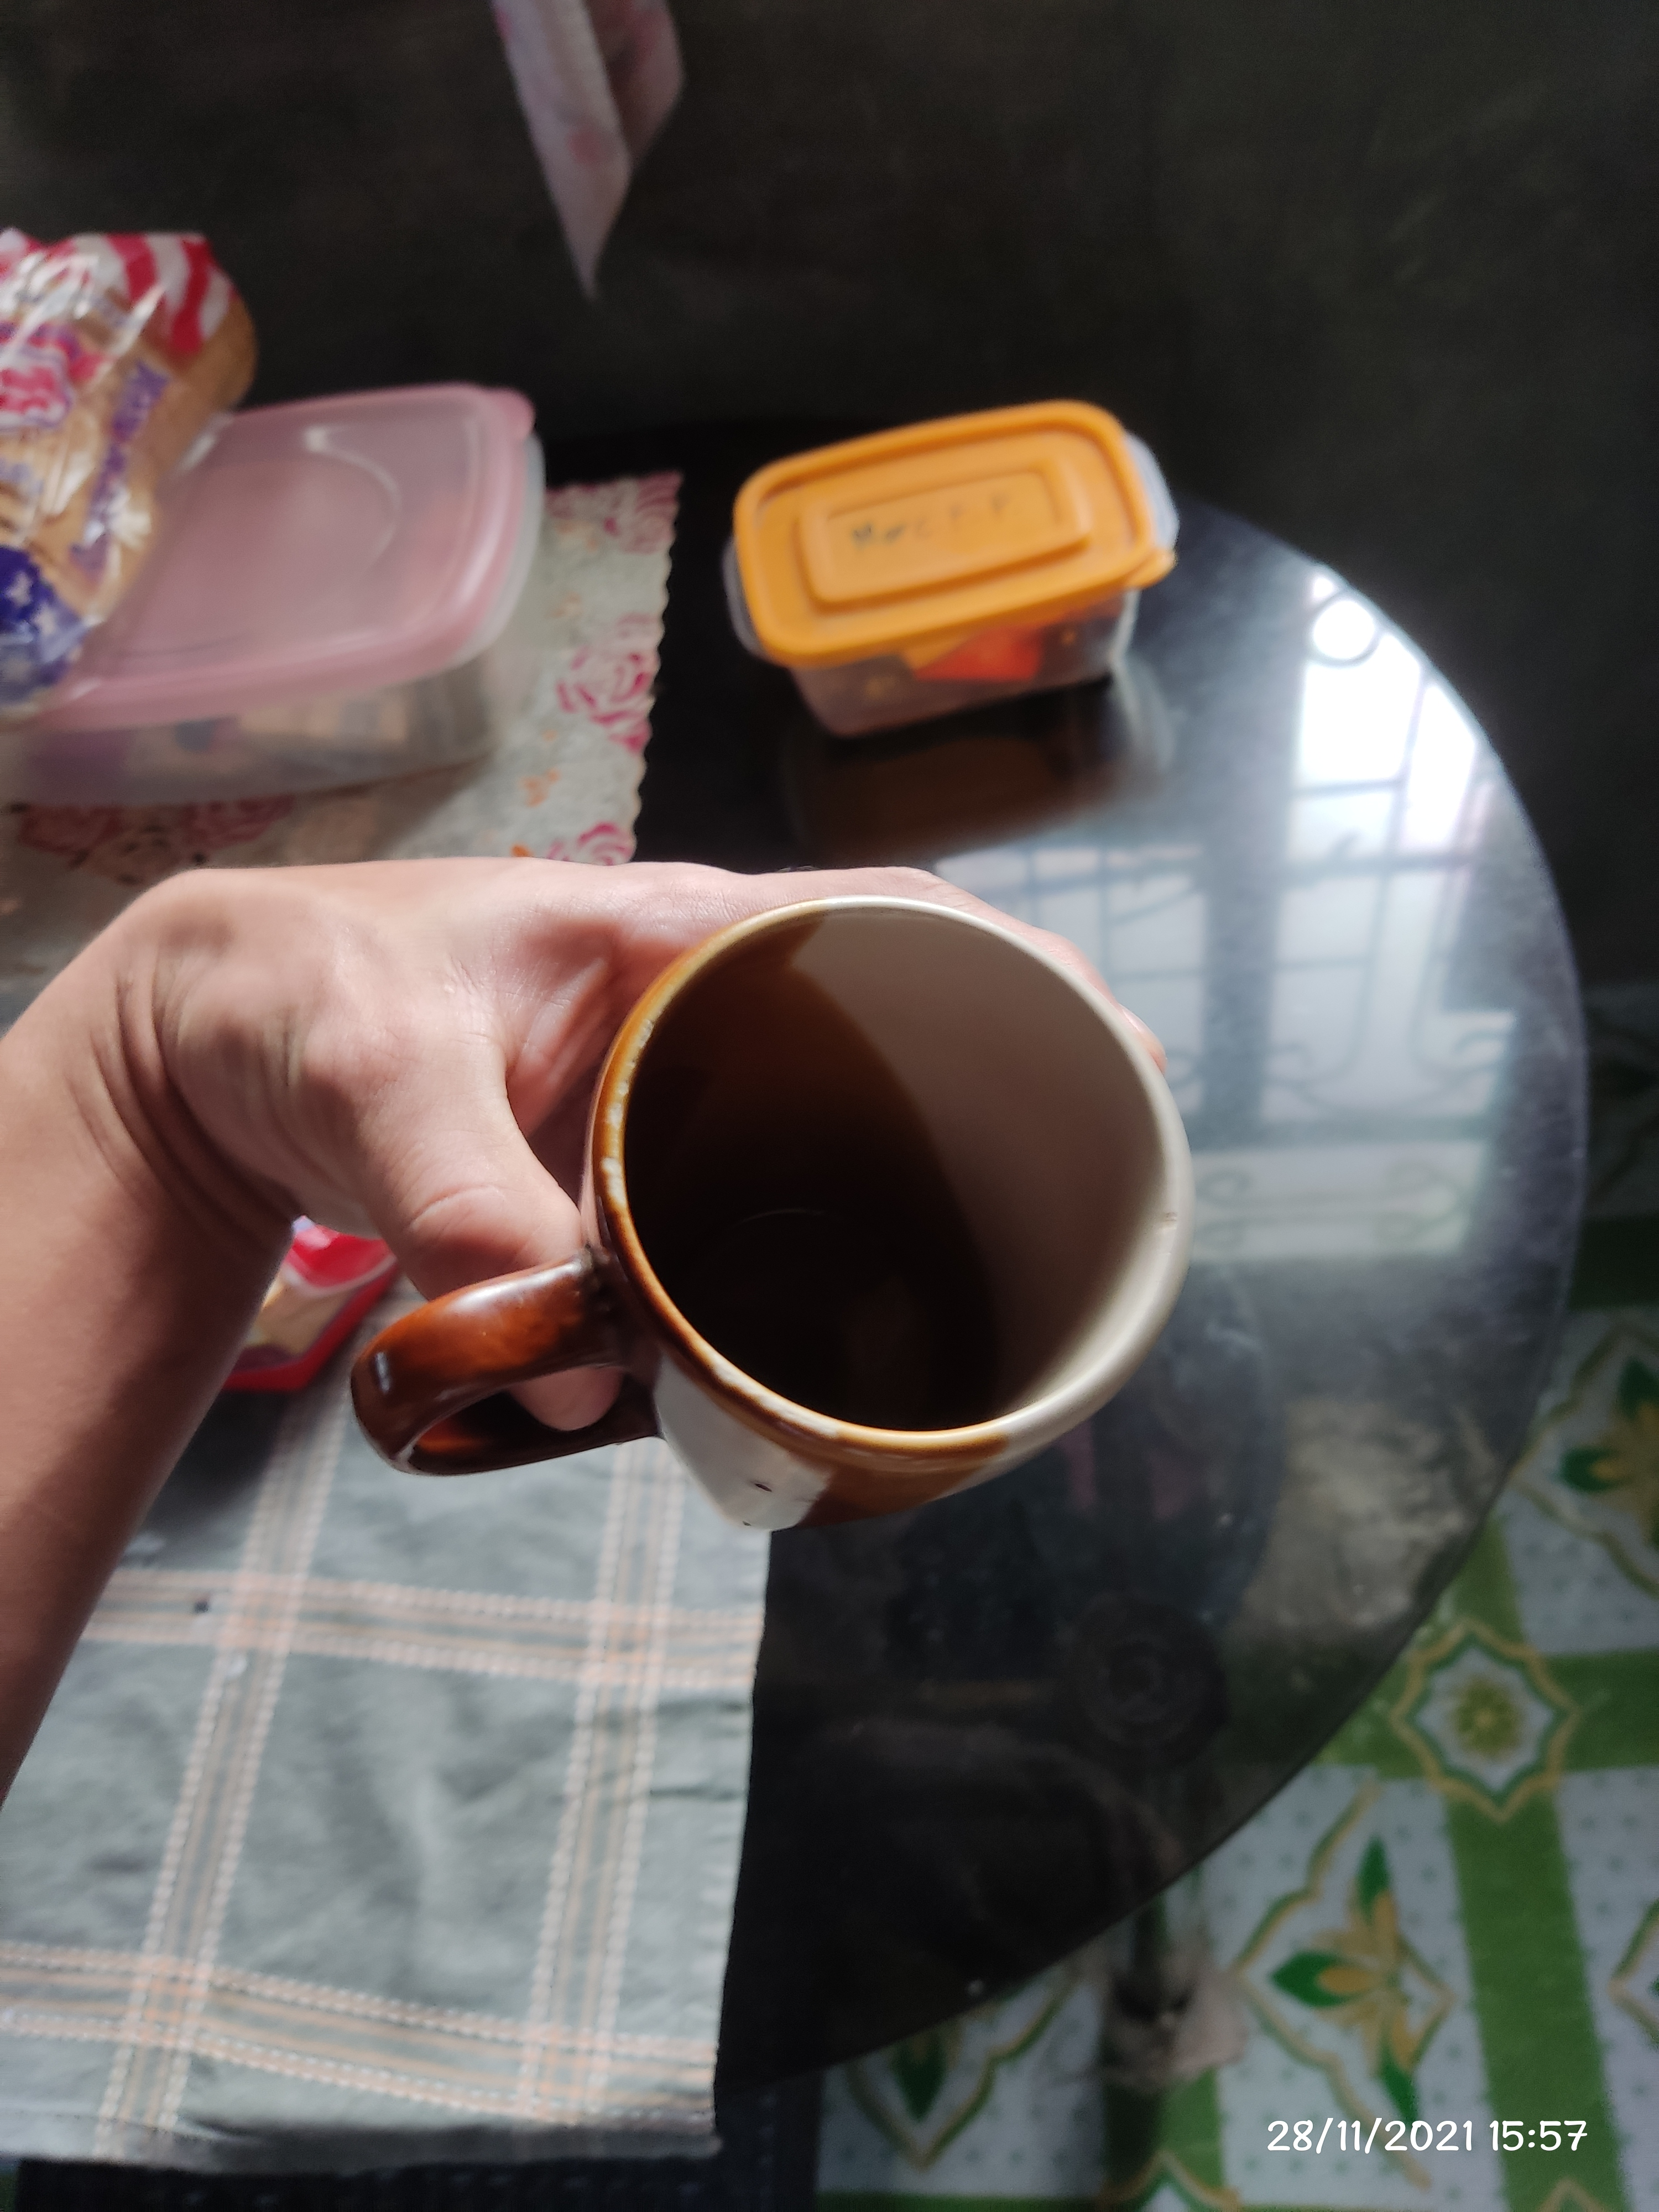mug: (350, 904, 1204, 1541)
